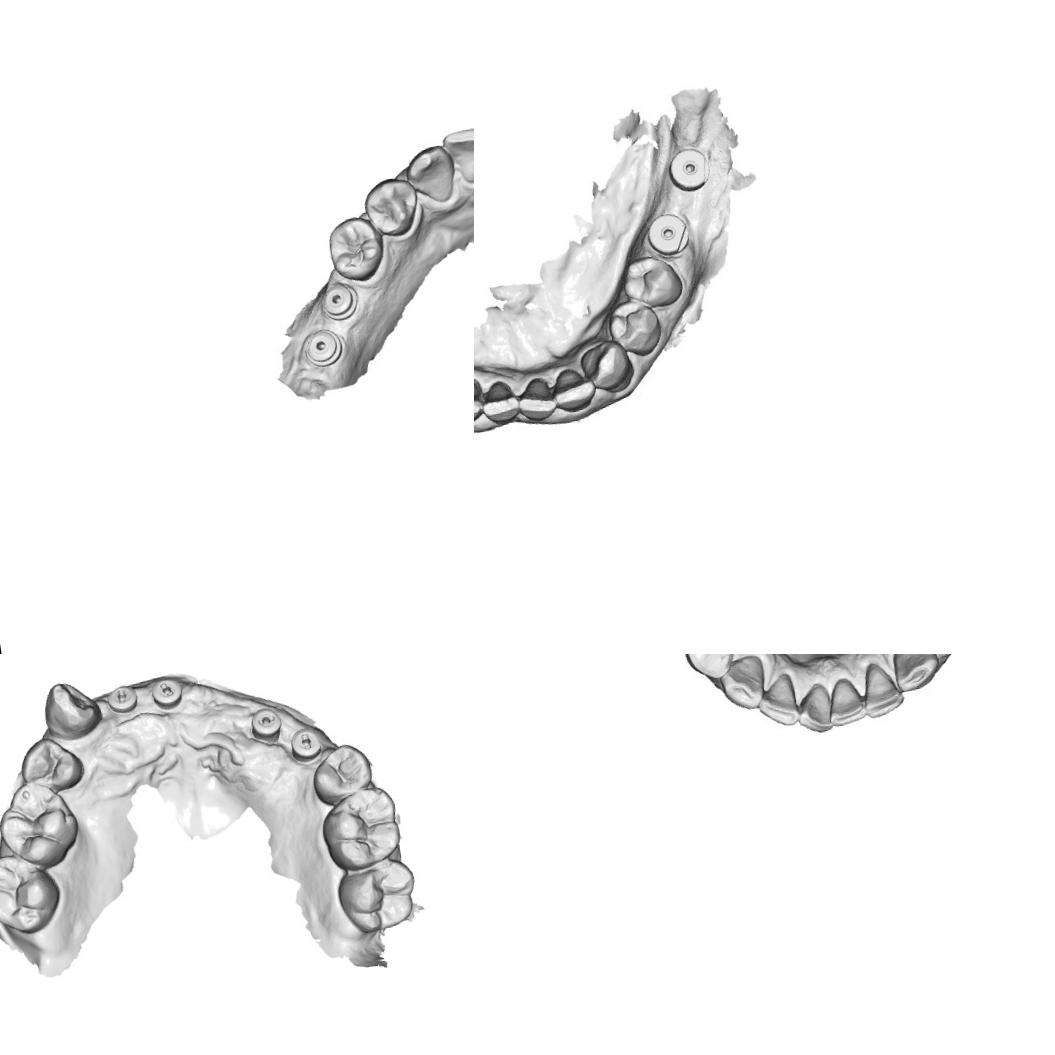canine: (38, 676, 105, 744), (402, 142, 458, 208), (577, 337, 637, 396), (716, 657, 766, 714), (887, 654, 942, 699)
implant: (664, 141, 714, 198), (300, 324, 348, 370), (644, 210, 690, 256), (317, 280, 362, 324)
implant_minus: (247, 704, 285, 748), (287, 724, 324, 766), (148, 675, 184, 712), (104, 682, 142, 717)
incisor: (754, 670, 802, 732), (860, 664, 904, 720), (438, 123, 474, 190), (794, 679, 835, 735), (826, 677, 868, 731), (517, 370, 558, 418), (480, 376, 518, 421), (552, 366, 590, 410), (474, 375, 487, 427)
molar: (0, 775, 84, 875), (316, 784, 405, 876), (331, 854, 424, 938), (0, 847, 66, 941)
premolar: (322, 212, 388, 284), (308, 740, 376, 809), (358, 172, 424, 243), (15, 732, 86, 796), (620, 250, 686, 316), (609, 297, 664, 358), (679, 654, 735, 681)
